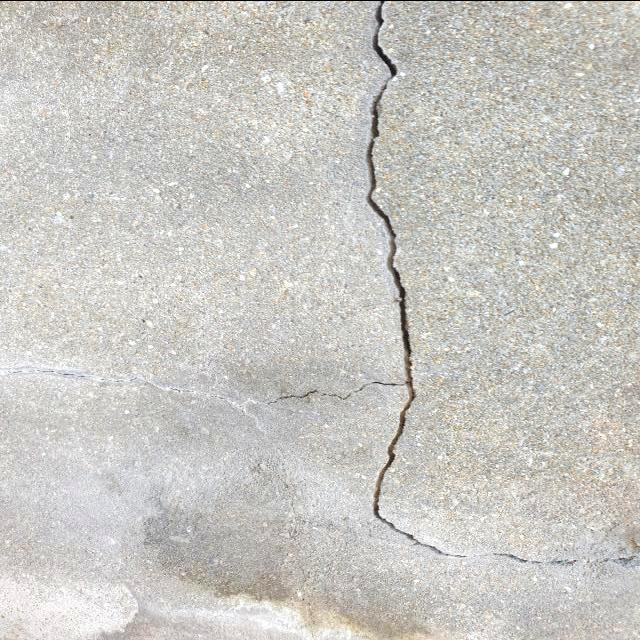SurfaceCrack: (343, 4, 445, 640)
